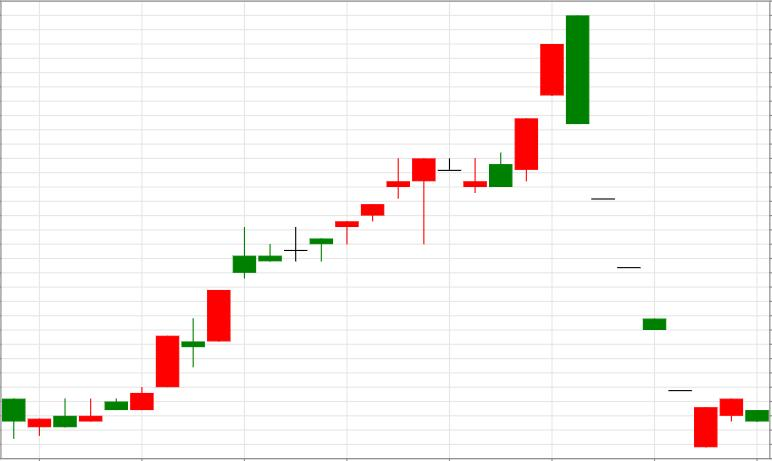bearish_engulfing_fall: (336, 15, 589, 245)
